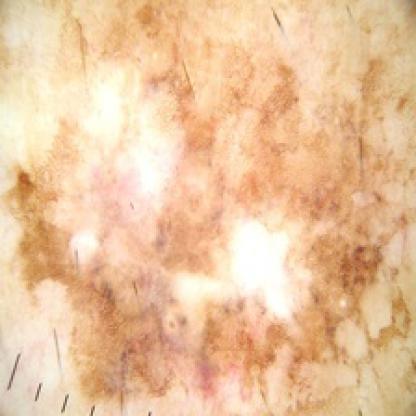malignant: (30, 33, 371, 392)
